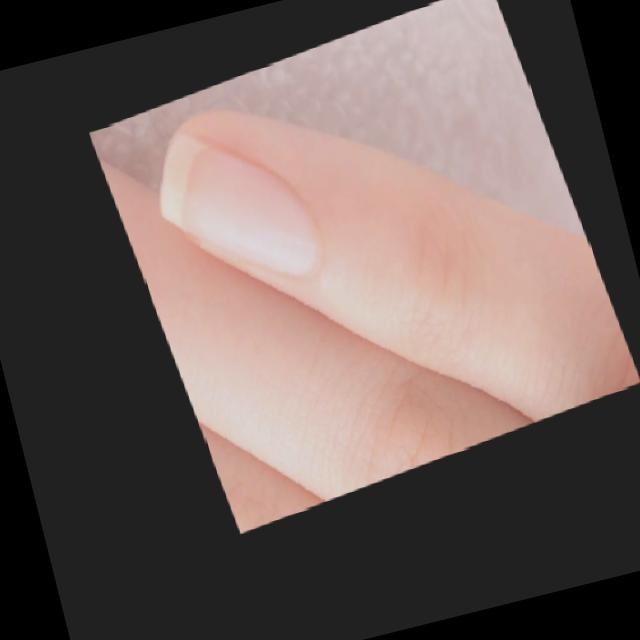Nail: (158, 133, 321, 273)
